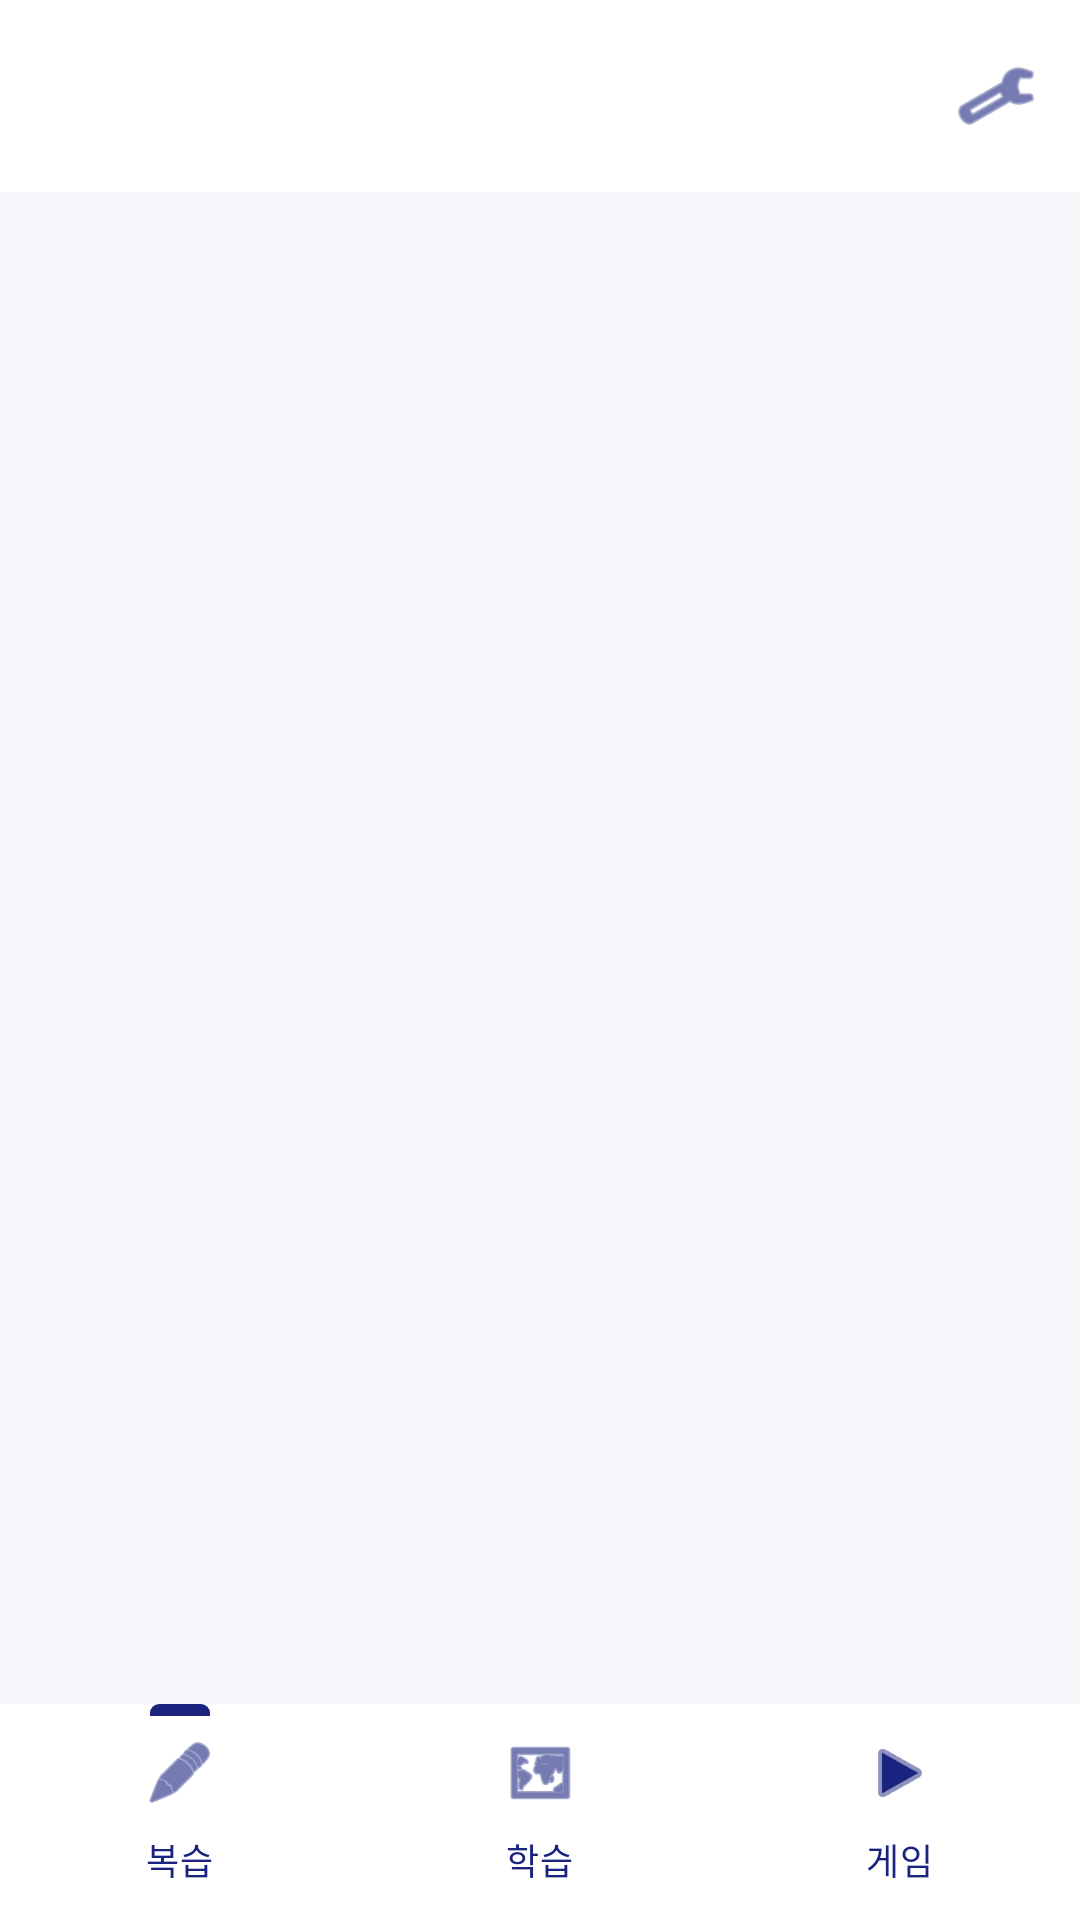

Named icons in this screenshot (1080 x 1920) and their centers, point (x, y):
manage: point (996, 96)
